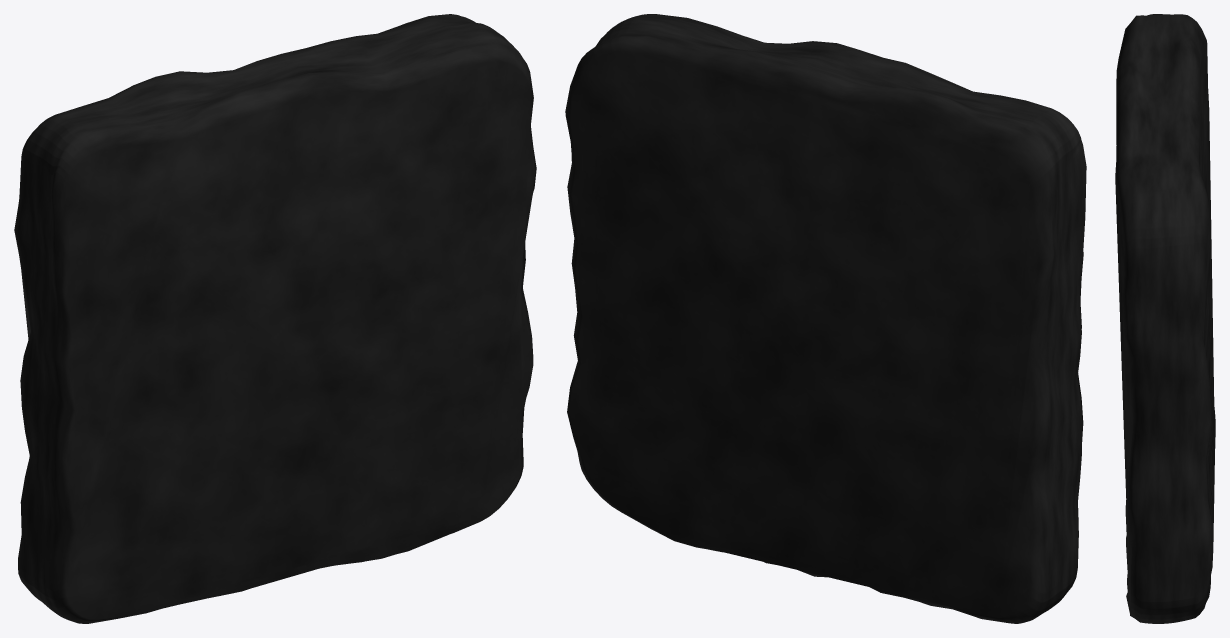
Rendered from stonedoor.fbx.
The picture shows the model from 3 angles, left to right: view 1: azimuth 30°, elevation 25°; view 2: azimuth 150°, elevation 25°; view 3: azimuth 270°, elevation 25°; orthographic projection. The views are drawn at different scales.
Parts seen in each view (by area): view 1: Cube.001; view 2: Cube.001; view 3: Cube.001.
Part boxes in pixels (<box>): Cube.001: <box>14,14,536,623</box>; Cube.001: <box>565,14,1086,623</box>; Cube.001: <box>1115,14,1215,623</box>.
Size of the model in its own units: 512 by 506 by 101.
